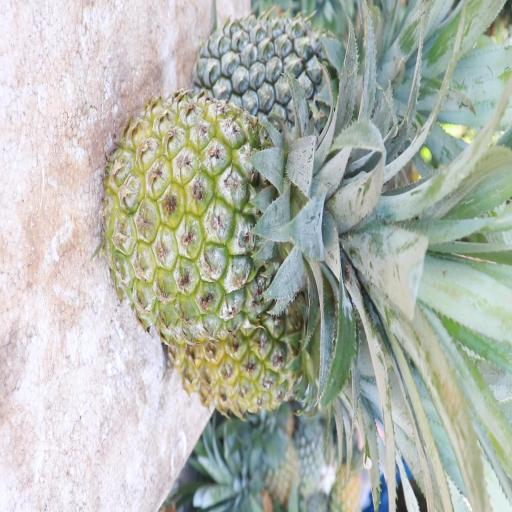------------------------------: (97, 88, 361, 346)
Pineapple - v8 v1: (160, 244, 392, 424)
